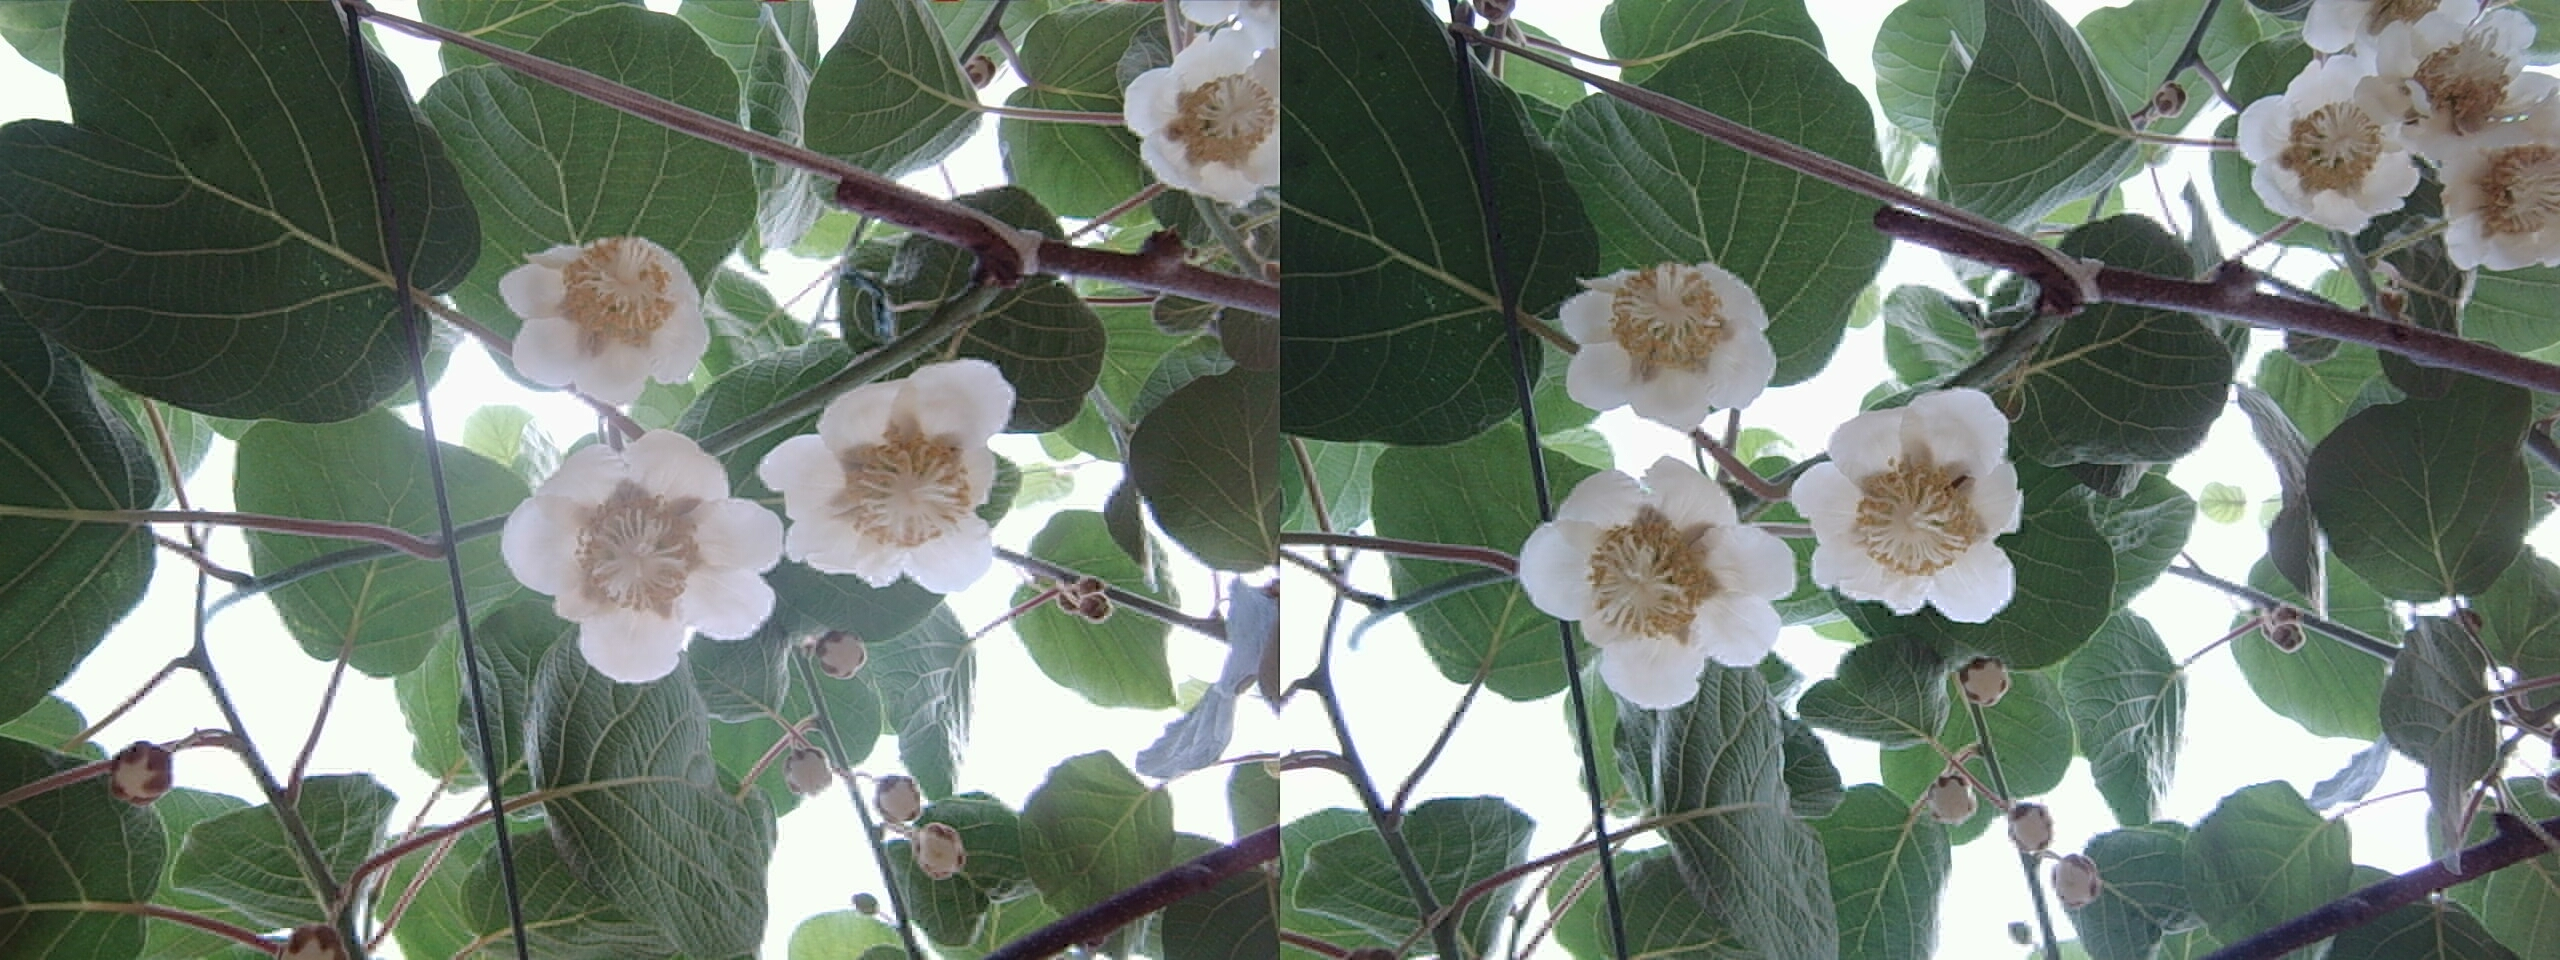flower: (498, 423, 776, 674), (1515, 454, 1788, 705), (766, 359, 1017, 594), (1793, 380, 2021, 627), (1541, 255, 1776, 424), (487, 227, 709, 398), (2233, 54, 2449, 225), (2380, 44, 2550, 237), (1127, 26, 1277, 198), (2411, 101, 2558, 271), (2367, 10, 2544, 139)
